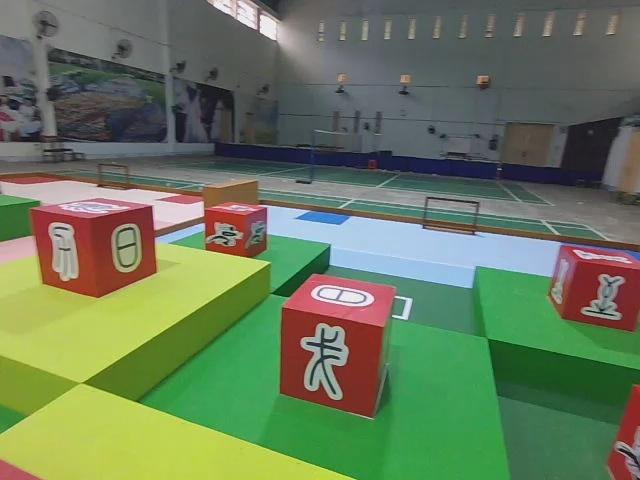R1: (201, 197, 269, 259)
R2 Fake: (277, 270, 401, 420), (27, 193, 159, 299)
R2 Real: (547, 241, 640, 334)
